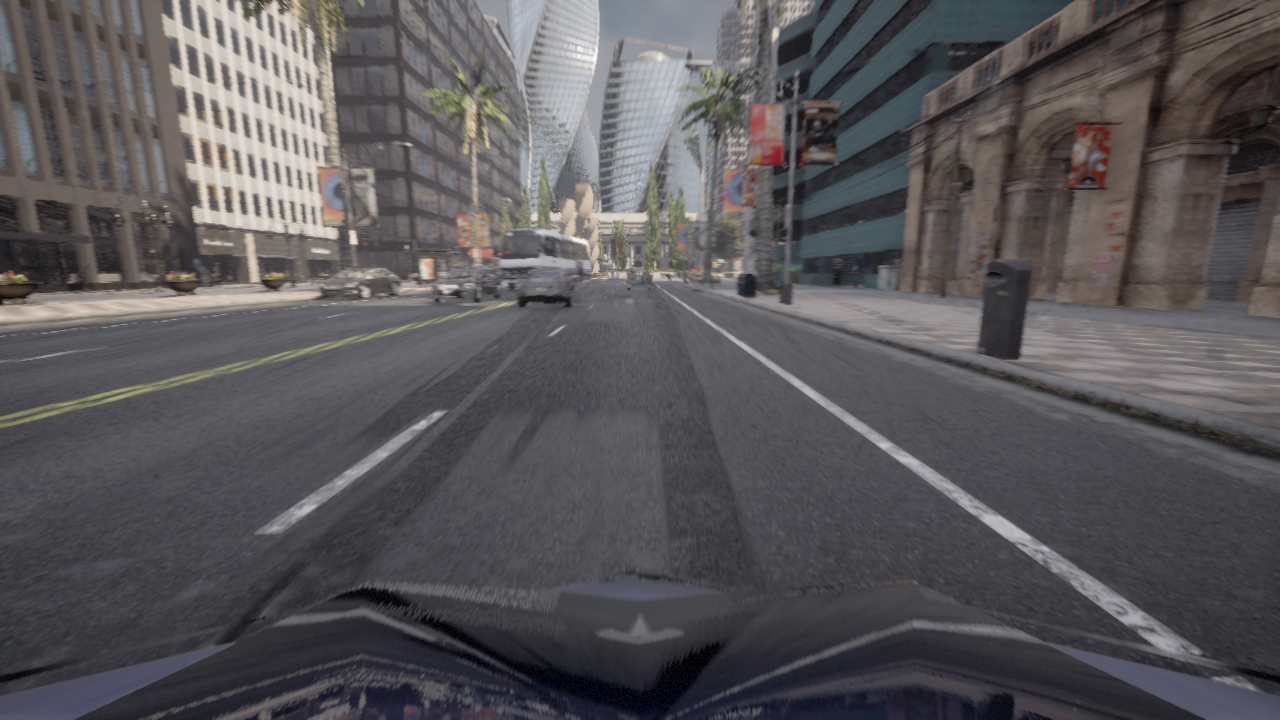cyclist: (0, 569, 1279, 719), (494, 230, 590, 289), (320, 267, 400, 299), (431, 267, 502, 303), (515, 269, 581, 307), (627, 268, 651, 290)
